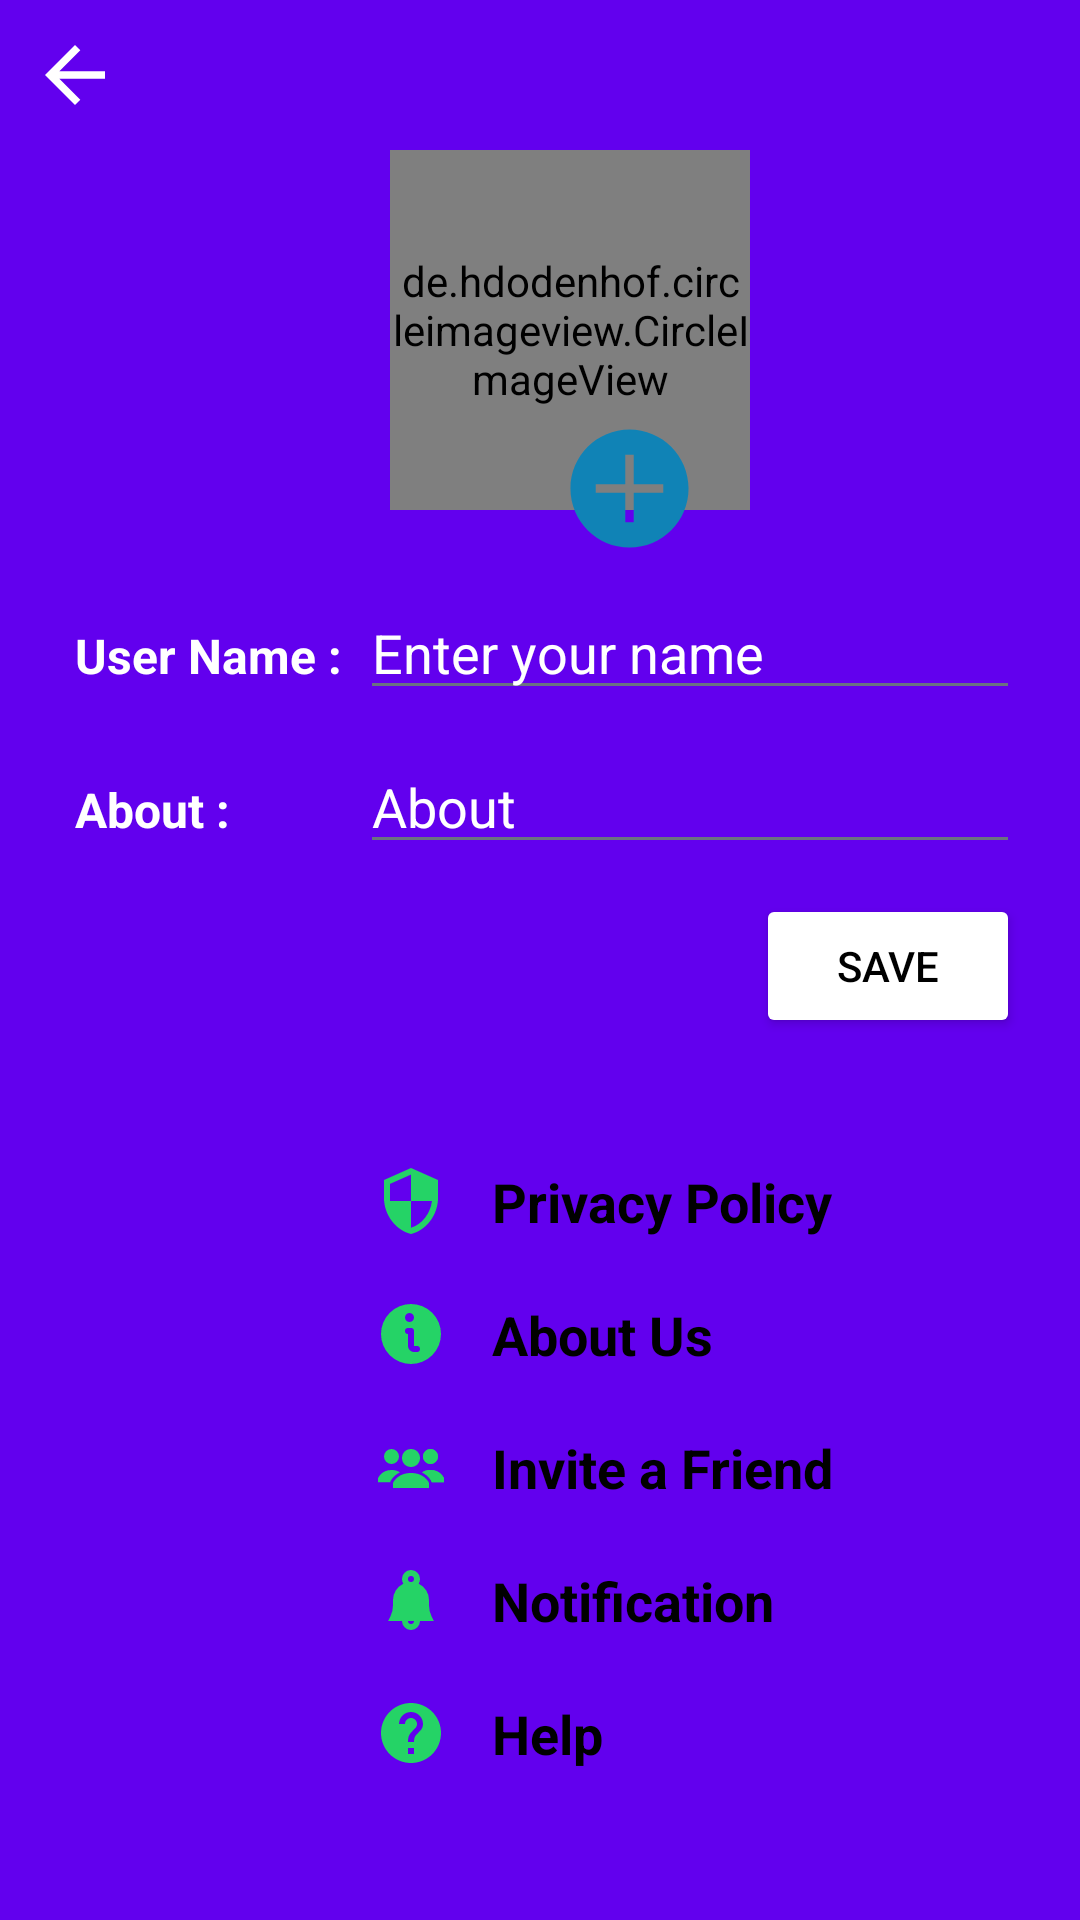

Where to tap for icons on this 1080×1920 app screen, as [x,y]:
back arrow: [75,75]
plus circled: [629,488]
